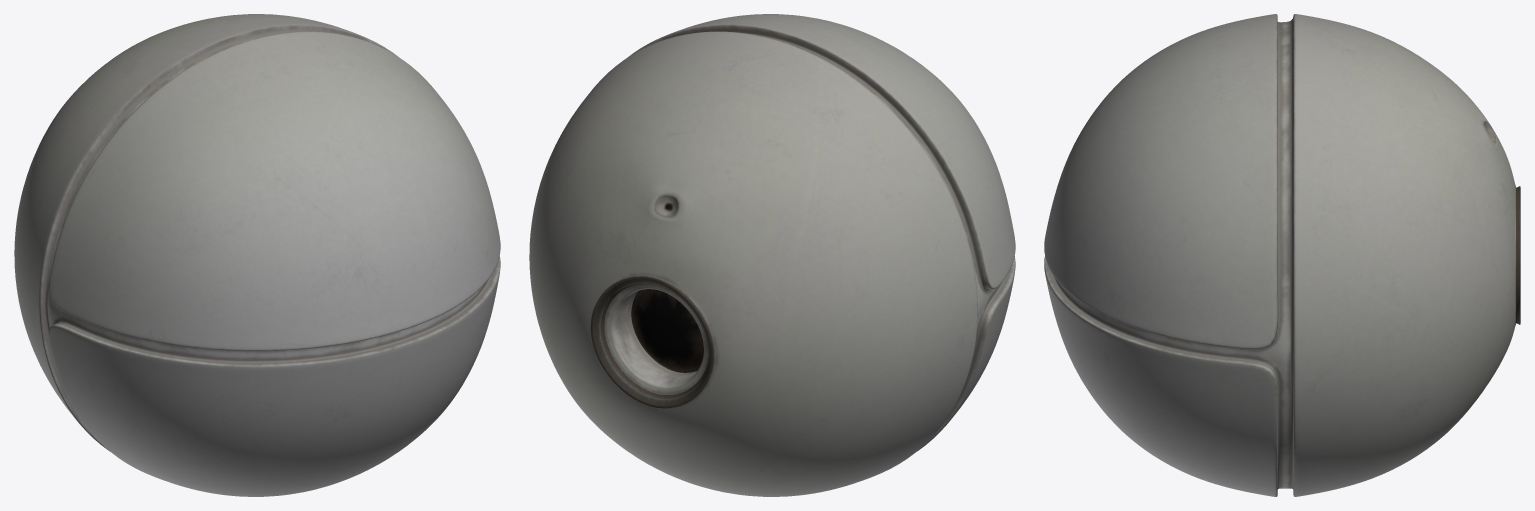
The model's file is drone_robot.glb.
The picture shows the model from 3 angles, left to right: view 1: azimuth 30°, elevation 25°; view 2: azimuth 150°, elevation 25°; view 3: azimuth 270°, elevation 25°; orthographic projection.
Visible parts, largest first — view 1: Cube.002_0; view 2: Cube.002_0; view 3: Cube.002_0.
Part boxes in pixels (box(x1,y1,x2,y2)): Cube.002_0: box(14, 14, 500, 496); Cube.002_0: box(529, 14, 1015, 496); Cube.002_0: box(1044, 14, 1520, 496).
Bounding box in the file's own units: 3.37 × 3.35 × 3.3.
1 material, 1 textured.
